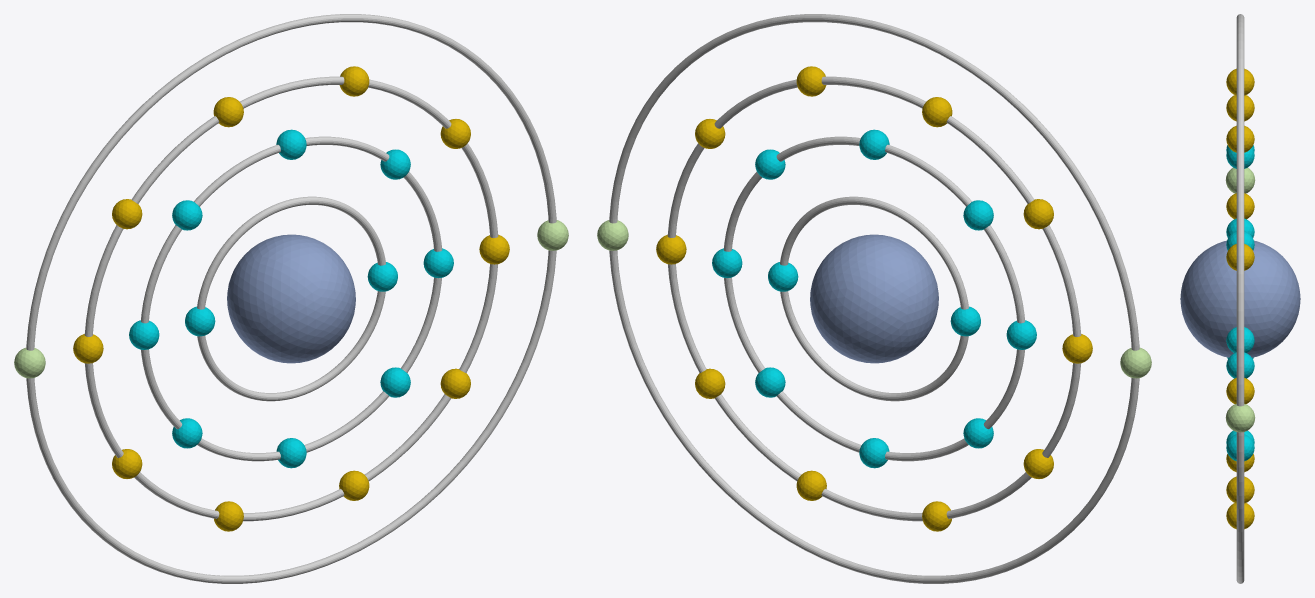
3 views of the same model, side by side, from view 1: azimuth 30°, elevation 25°; view 2: azimuth 150°, elevation 25°; view 3: azimuth 270°, elevation 25° (orthographic). The views are drawn at different scales.
Visible parts, largest first — view 1: Camada_4, Nucleo_Ti, Camada_3, Camada_2, Camada_1, e4_2, e4_1, e2_4, e2_8, e3_5, e3_10, e3_4 (+15 smaller); view 2: Camada_4, Nucleo_Ti, Camada_3, Camada_2, Camada_1, e4_2, e4_1, e2_4, e2_8, e3_5, e3_10, e3_4 (+15 smaller); view 3: Nucleo_Ti, Camada_4, e4_1, e4_2, e3_10, e2_8, e3_2, e3_3, e3_4, e1_1, e3_5, e2_1 (+7 smaller).
Boxes of the visible parts, left/top/right/bottom form: Camada_4: left=26, top=14, right=556, bottom=583; Nucleo_Ti: left=227, top=234, right=355, bottom=363; Camada_3: left=84, top=76, right=498, bottom=521; Camada_2: left=140, top=136, right=442, bottom=461; Camada_1: left=197, top=196, right=385, bottom=401; e4_2: left=14, top=347, right=45, bottom=378; e4_1: left=537, top=220, right=568, bottom=250; e2_4: left=172, top=200, right=202, bottom=230; e2_8: left=380, top=367, right=410, bottom=397; e3_5: left=112, top=199, right=142, bottom=229; e3_10: left=440, top=368, right=470, bottom=398; e3_4: left=213, top=97, right=243, bottom=127; Camada_4: left=609, top=14, right=1139, bottom=583; Nucleo_Ti: left=810, top=234, right=938, bottom=363; Camada_3: left=667, top=76, right=1081, bottom=521; Camada_2: left=723, top=136, right=1025, bottom=461; Camada_1: left=780, top=196, right=968, bottom=401; e4_2: left=1120, top=347, right=1151, bottom=378; e4_1: left=597, top=220, right=628, bottom=250; e2_4: left=963, top=200, right=993, bottom=230; e2_8: left=755, top=367, right=785, bottom=397; e3_5: left=1023, top=199, right=1053, bottom=229; e3_10: left=695, top=368, right=725, bottom=398; e3_4: left=922, top=97, right=952, bottom=127; Nucleo_Ti: left=1180, top=240, right=1300, bottom=357; Camada_4: left=1236, top=14, right=1244, bottom=583; e4_1: left=1225, top=404, right=1255, bottom=432; e4_2: left=1225, top=167, right=1255, bottom=193; e3_10: left=1226, top=476, right=1254, bottom=503; e2_8: left=1226, top=434, right=1254, bottom=461; e3_2: left=1226, top=244, right=1254, bottom=270; e3_3: left=1226, top=125, right=1254, bottom=152; e3_4: left=1226, top=68, right=1254, bottom=95; e1_1: left=1226, top=327, right=1254, bottom=352; e3_5: left=1226, top=95, right=1254, bottom=121; e2_1: left=1226, top=352, right=1254, bottom=378.
Bounding box in the file's own units: 2.17 × 2.09 × 0.44.
